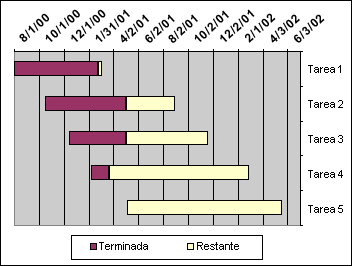canvas: (14, 55, 297, 225)
legend: (69, 232, 265, 262)
x-axis: (14, 47, 305, 56)
x-labels: (15, 4, 326, 47)
y-axis: (298, 49, 304, 229)
y-labels: (306, 57, 347, 221)
